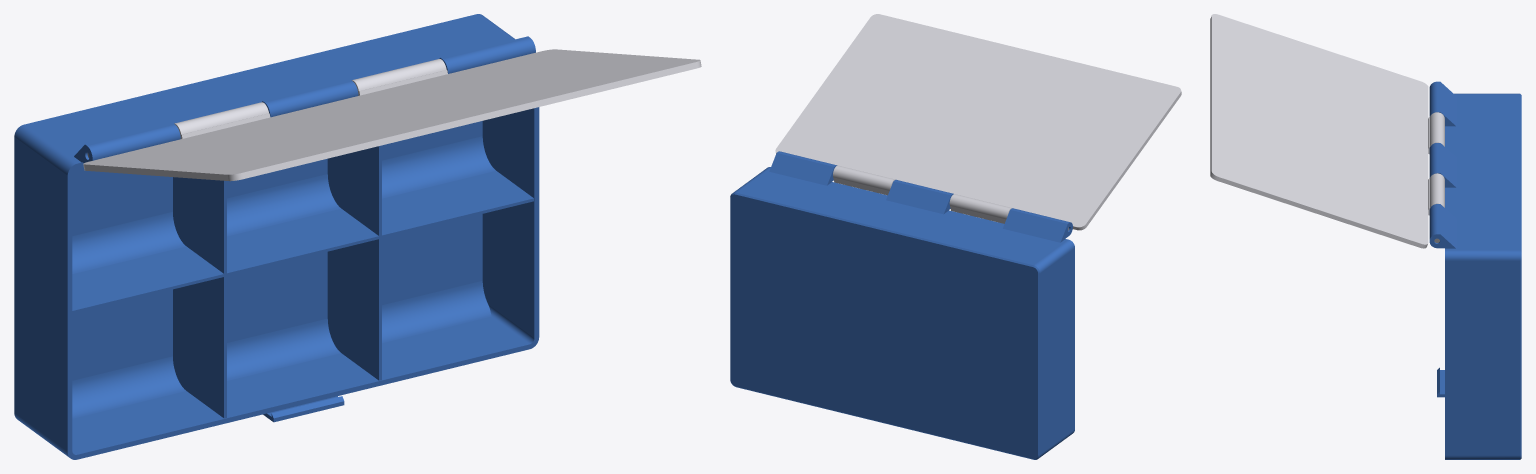
File: variant-COLS_3-ROWS_2.glb
The picture shows the model from 3 angles, left to right: view 1: azimuth 30°, elevation 25°; view 2: azimuth 150°, elevation 25°; view 3: azimuth 270°, elevation 25°; orthographic projection. The views are drawn at different scales.
Visible parts, largest first — view 1: 0:Kasten, 1:Deckel; view 2: 0:Kasten, 1:Deckel; view 3: 1:Deckel, 0:Kasten.
Part boxes in pixels (box(x1,y1,x2,y2)): 0:Kasten: box(14, 14, 539, 459); 1:Deckel: box(83, 49, 701, 181); 0:Kasten: box(730, 151, 1074, 459); 1:Deckel: box(775, 14, 1181, 230); 1:Deckel: box(1210, 14, 1444, 248); 0:Kasten: box(1429, 81, 1521, 459).
Size of the model in its own units: 200 by 167 by 162.
